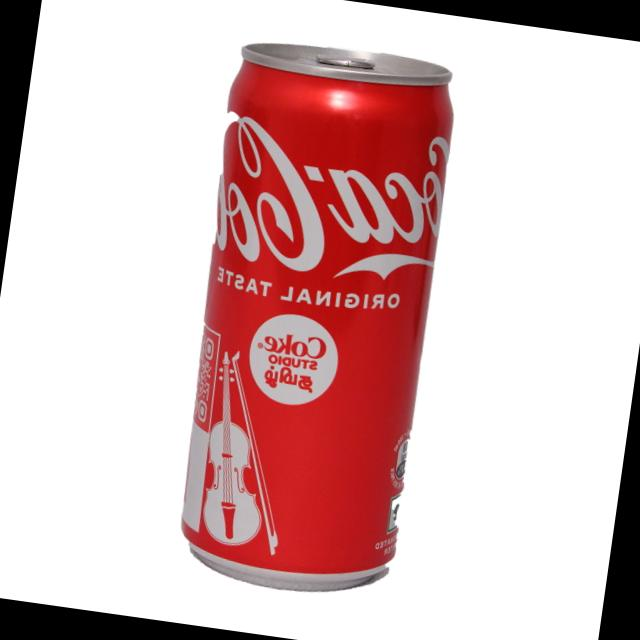cocacola: (168, 31, 468, 610)
